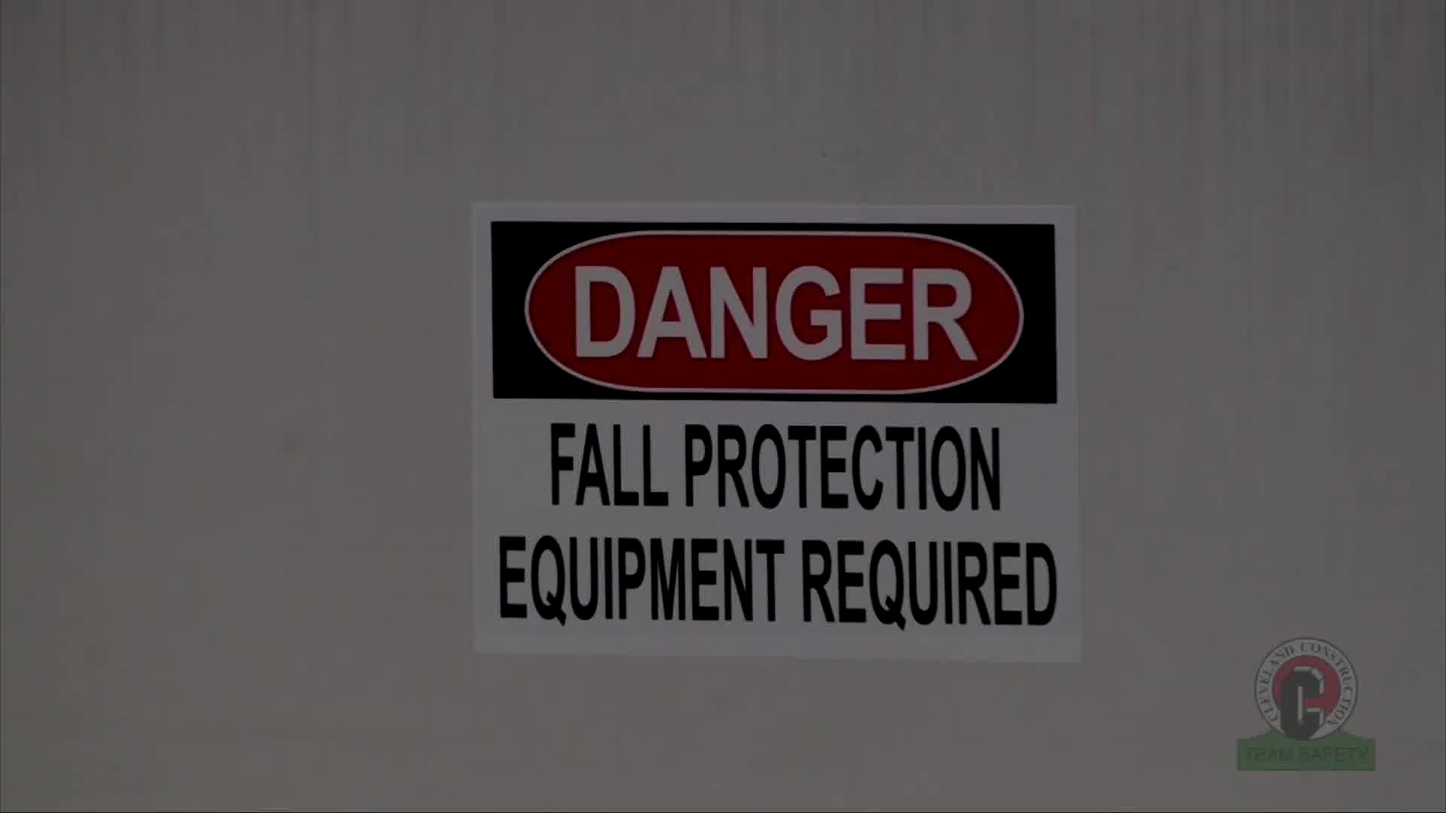safety_signage: (477, 209, 1081, 634)
